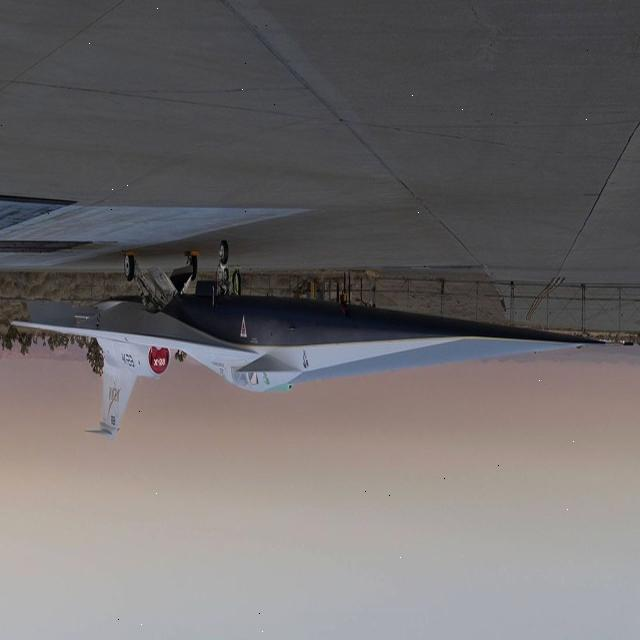aircraft: (1, 173, 620, 533)
